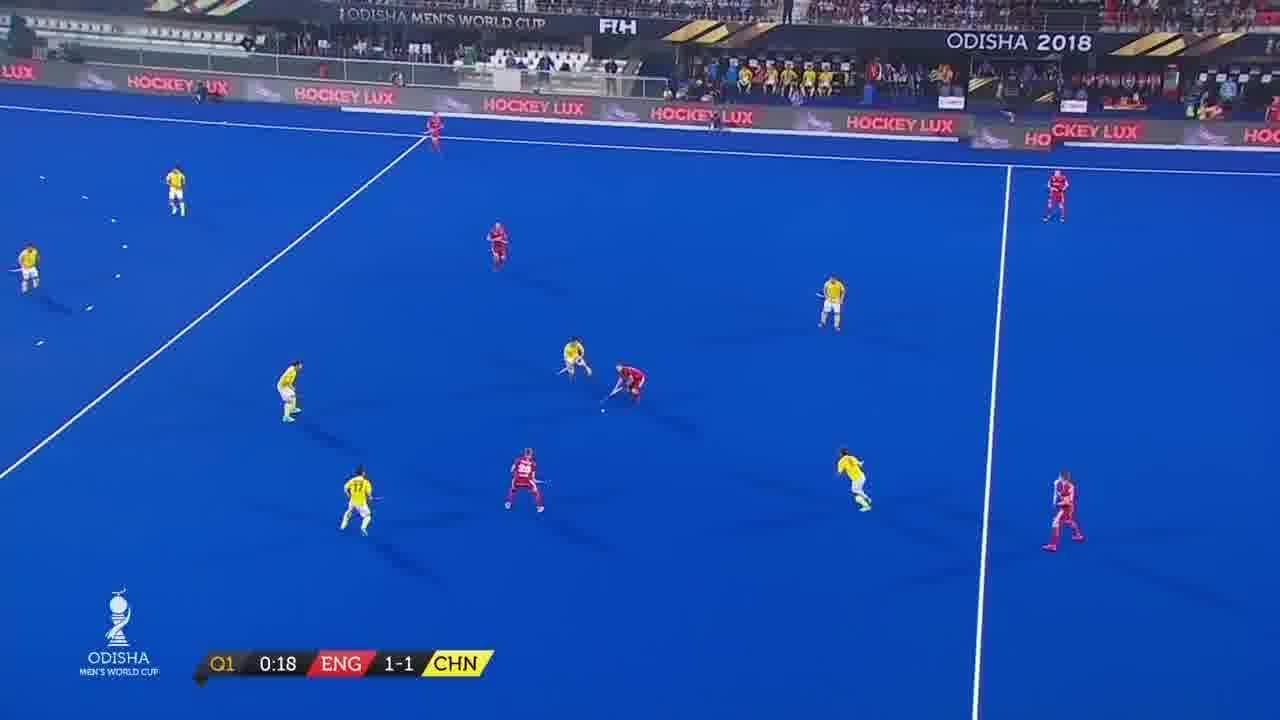ball: (595, 402, 612, 416)
